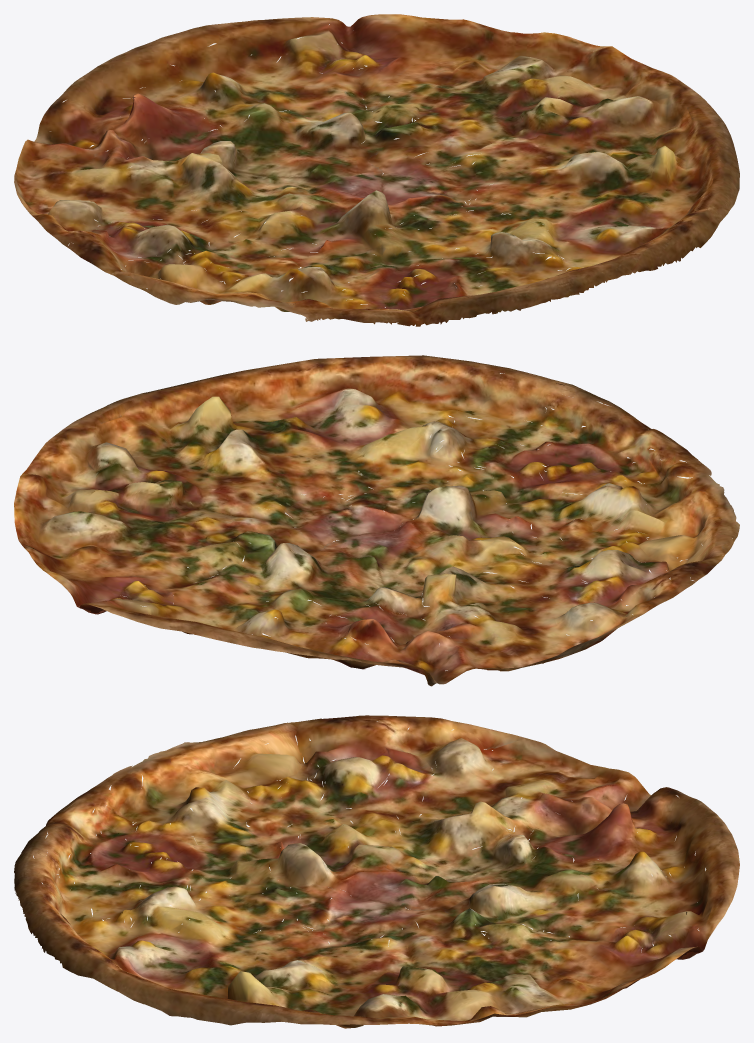
File: pizza-especial-v03.glb
3 renders of one model, top to bottom at view 1: azimuth 30°, elevation 25°; view 2: azimuth 150°, elevation 25°; view 3: azimuth 270°, elevation 25°, orthographic.
Visible parts, largest first — view 1: pizza.002_pizza_0 (×2); view 2: pizza.002_pizza_0 (×2); view 3: pizza.002_pizza_0 (×2).
Part boxes in pixels (x1,y1,x2,y2): pizza.002_pizza_0 (×2): [14, 14, 739, 326]; pizza.002_pizza_0 (×2): [14, 355, 739, 686]; pizza.002_pizza_0 (×2): [14, 715, 739, 1028].
Bounding box in the file's own units: 0.3 × 0.0202 × 0.2956.
Materials: 1 (1 with a texture image).
